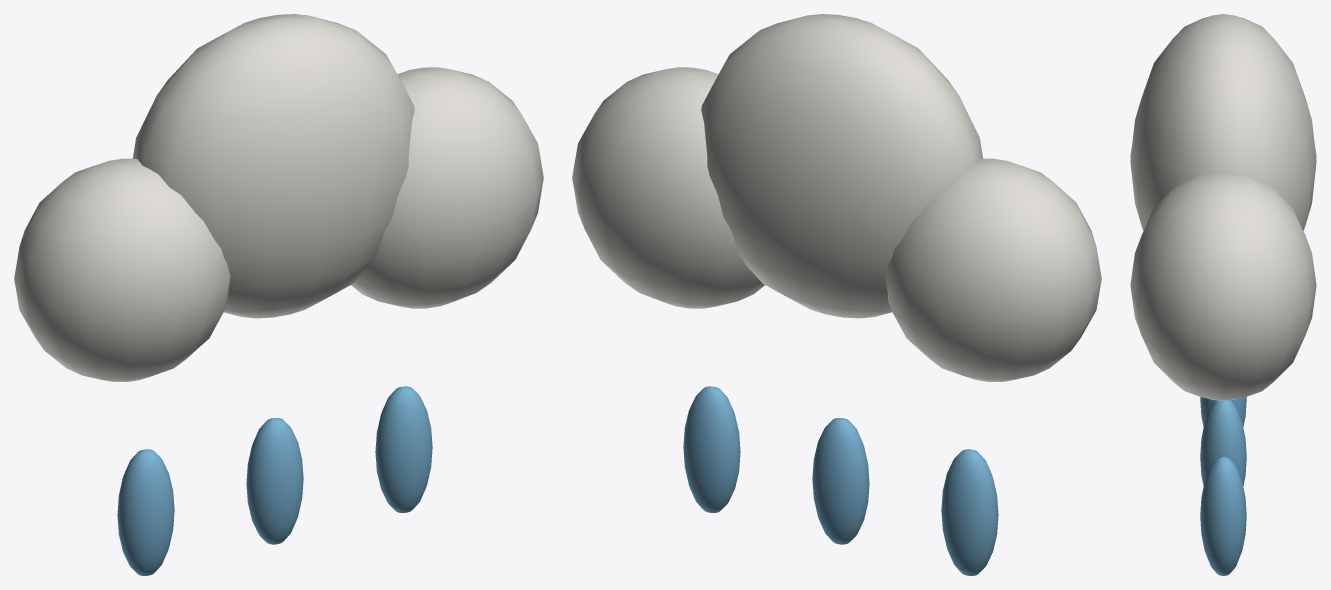
Rendered from word-rain.glb.
The picture shows the model from 3 angles, left to right: view 1: azimuth 30°, elevation 25°; view 2: azimuth 150°, elevation 25°; view 3: azimuth 270°, elevation 25°; orthographic projection. The views are drawn at different scales.
Visible parts, largest first — view 1: cloud.001, cloud, cloud.002, raindrop, raindrop.001, raindrop.002; view 2: cloud.001, cloud, cloud.002, raindrop, raindrop.001, raindrop.002; view 3: cloud.002, cloud.001, raindrop.002, raindrop.001, raindrop.
Part boxes in pixels (x1,y1,x2,y2): cloud.001: (133, 14, 414, 318); cloud: (14, 158, 230, 381); cloud.002: (351, 67, 543, 308); raindrop: (117, 449, 174, 575); raindrop.001: (246, 418, 303, 544); raindrop.002: (375, 386, 432, 512); cloud.001: (701, 14, 982, 318); cloud: (885, 158, 1101, 381); cloud.002: (572, 67, 764, 308); raindrop: (941, 449, 998, 575); raindrop.001: (812, 418, 869, 544); raindrop.002: (683, 386, 740, 512); cloud.002: (1130, 173, 1316, 400); cloud.001: (1130, 14, 1316, 230); raindrop.002: (1200, 456, 1246, 575); raindrop.001: (1200, 400, 1246, 485); raindrop: (1200, 397, 1246, 426).
Size of the model in its own units: 1.18 by 1.16 by 0.4.
